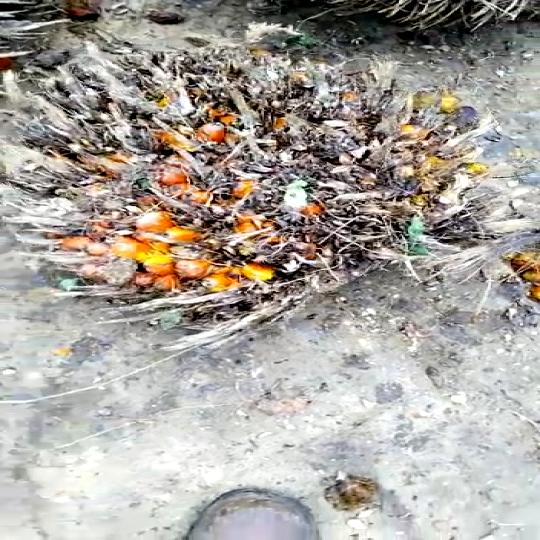terlalu masak: (0, 36, 540, 328)
